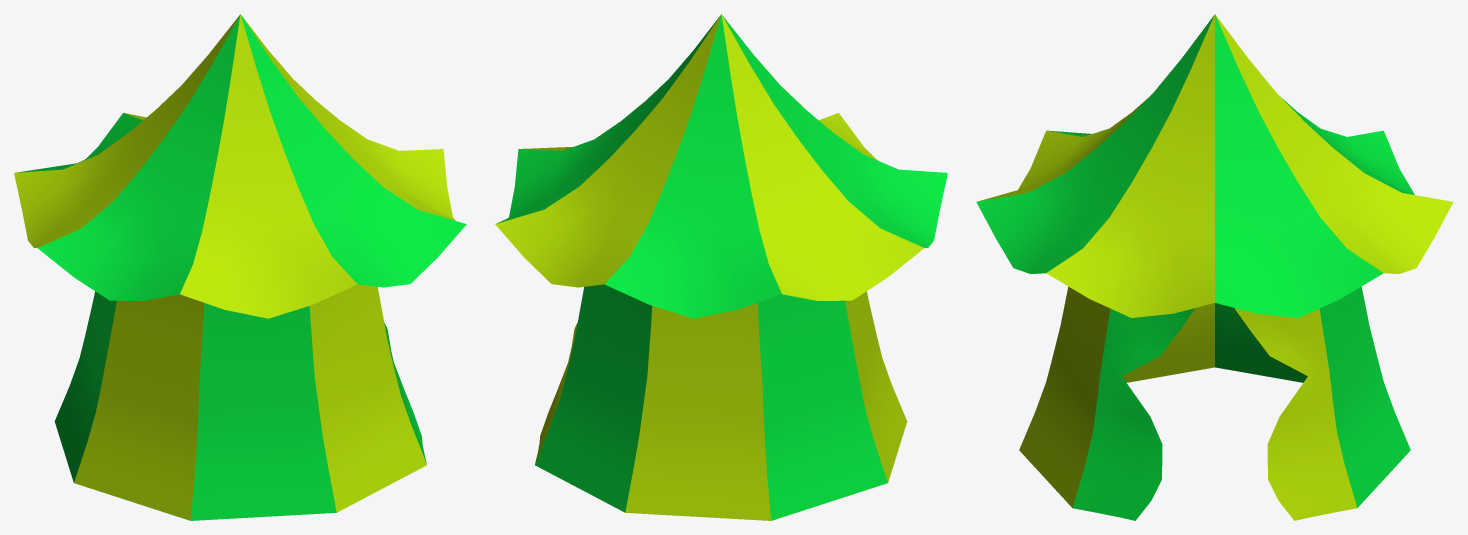
The model's file is tent.fbx.
3 views of the same model, side by side, from view 1: azimuth 30°, elevation 25°; view 2: azimuth 150°, elevation 25°; view 3: azimuth 270°, elevation 25° (orthographic).
Visible parts, largest first — view 1: Tent; view 2: Tent; view 3: Tent.
Boxes of the visible parts, box(x1,y1,x2,y2) form: Tent: box(14, 14, 466, 520); Tent: box(495, 14, 947, 520); Tent: box(976, 14, 1453, 520).
Bounding box in the file's own units: 323 × 325 × 323.
